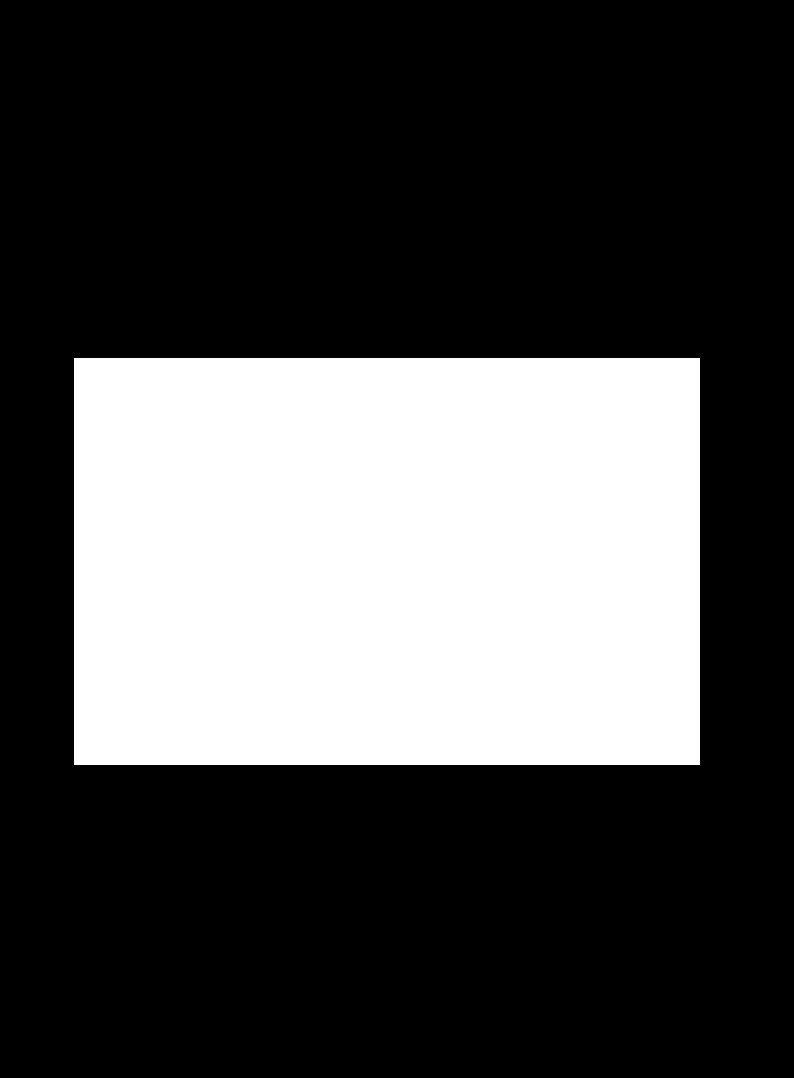table: (74, 358, 699, 764)
